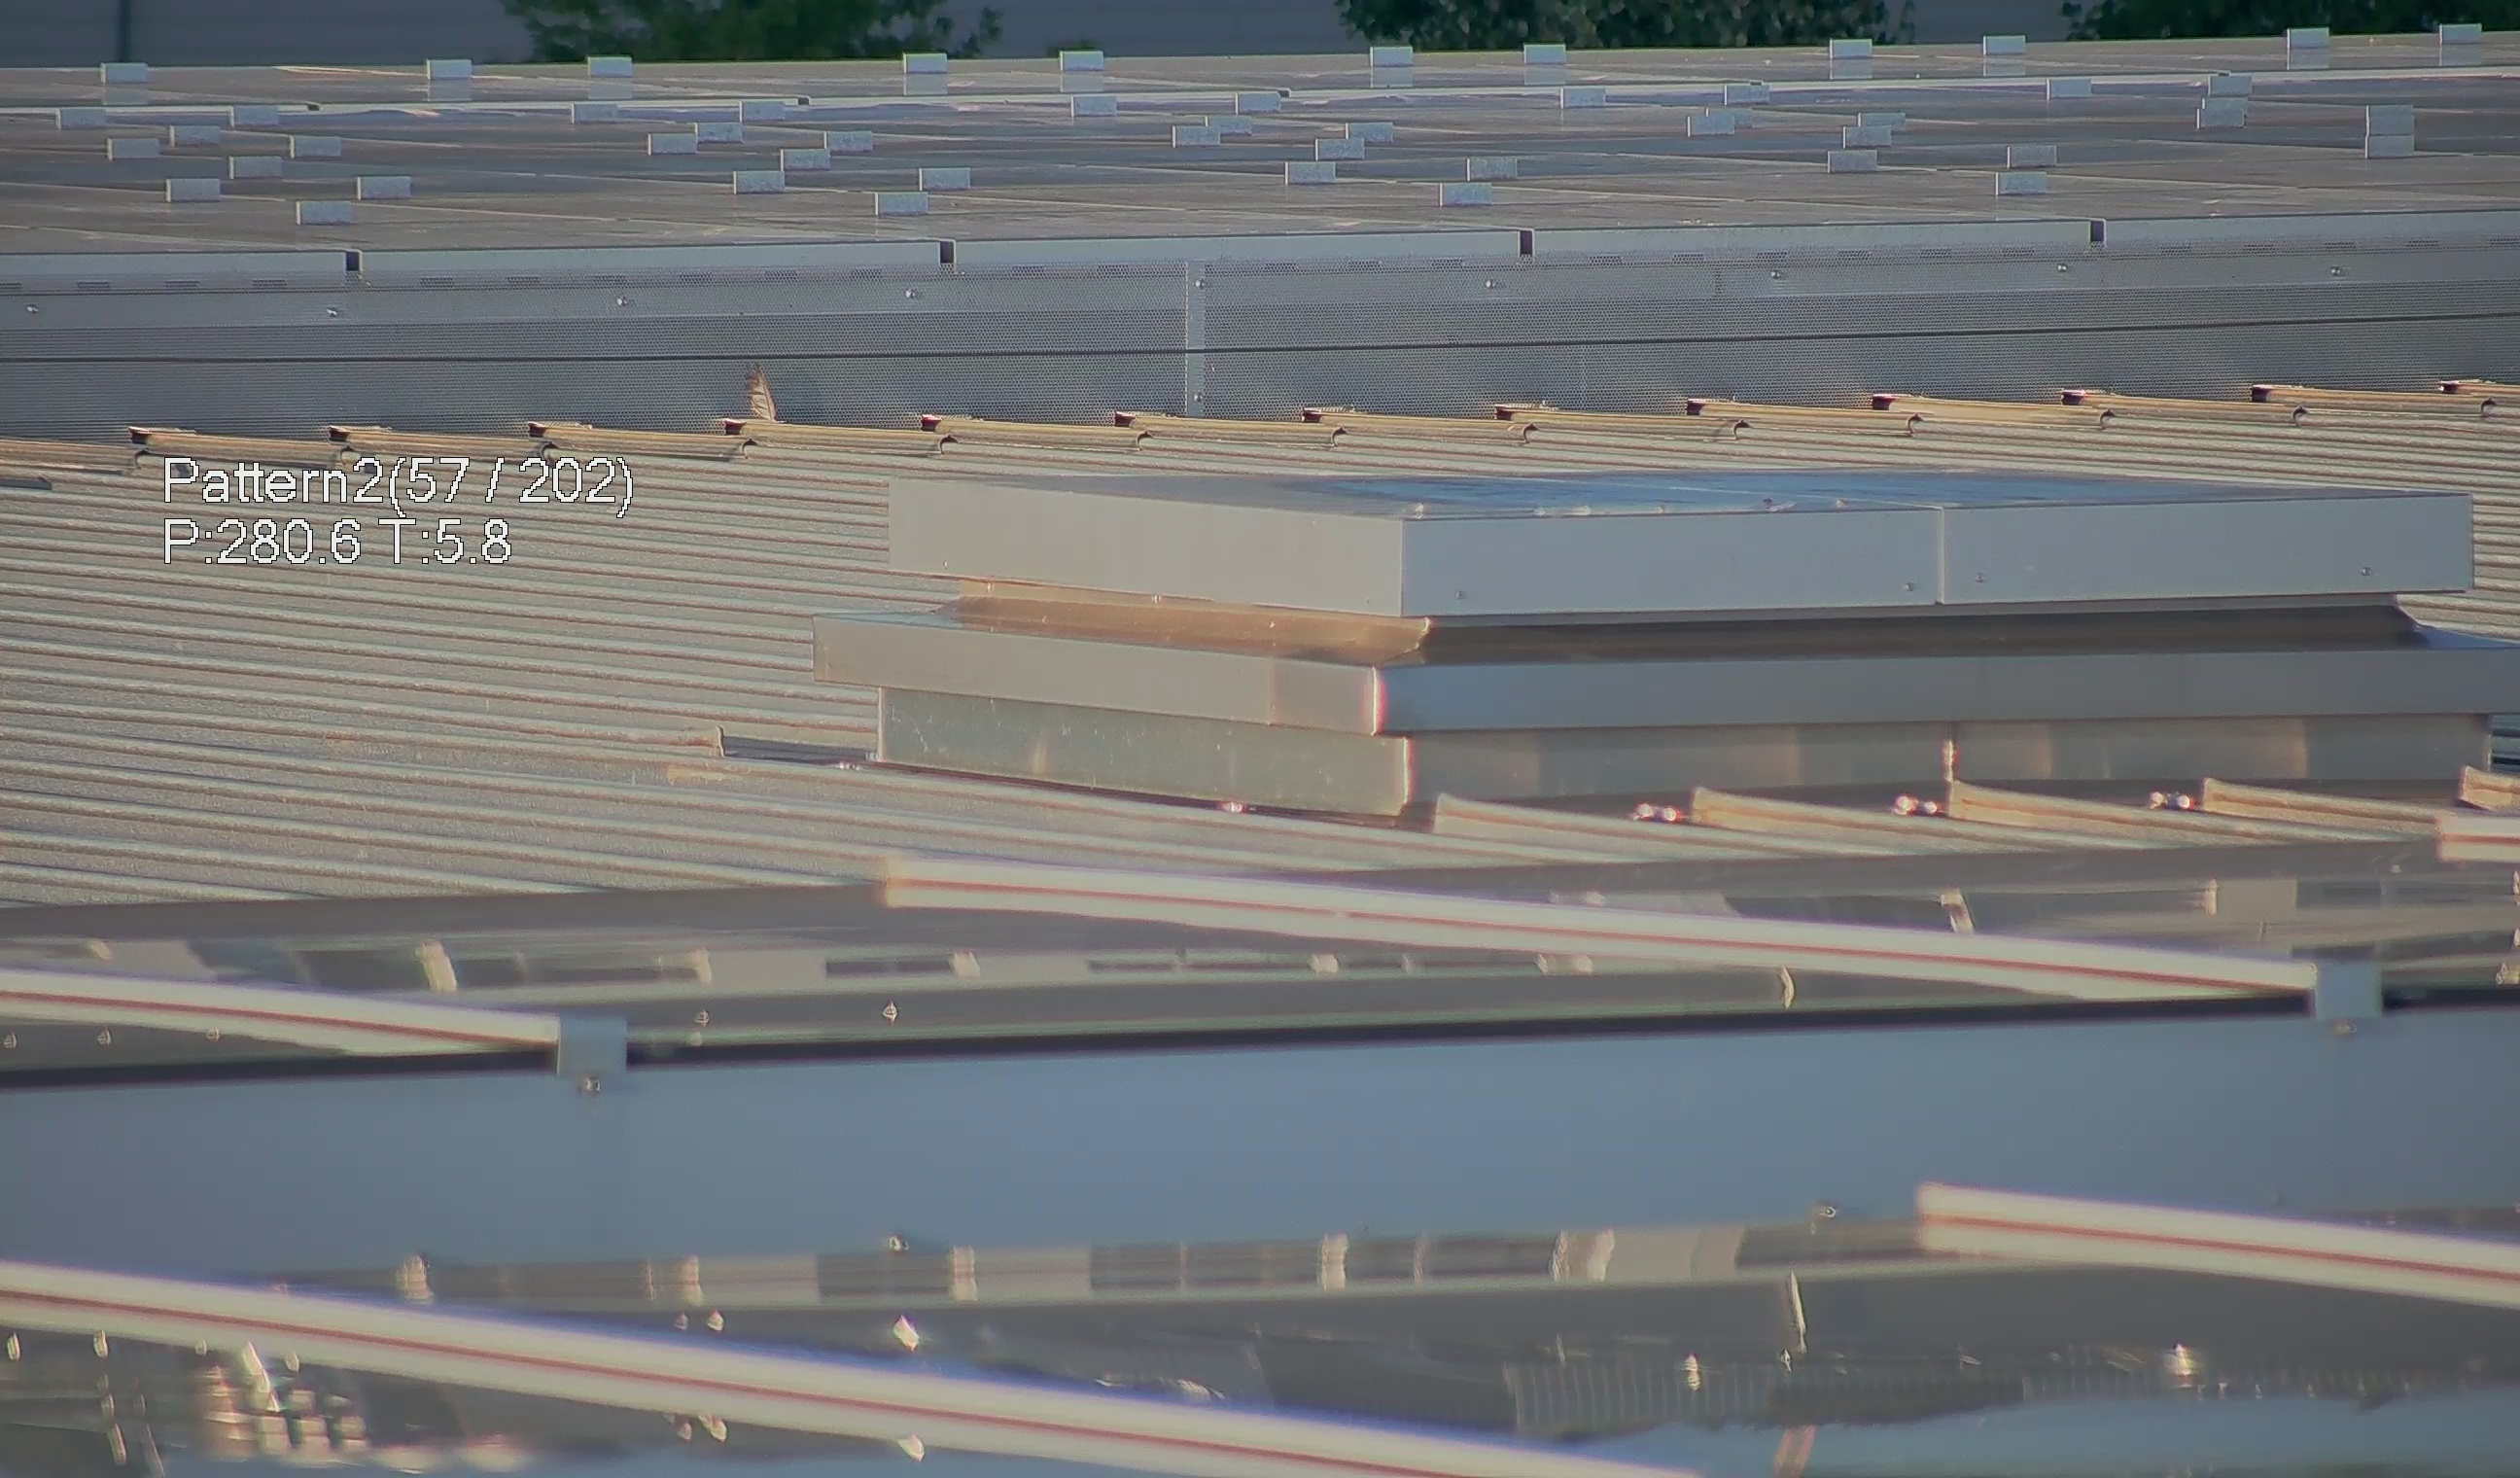Other: (719, 348, 779, 435)
